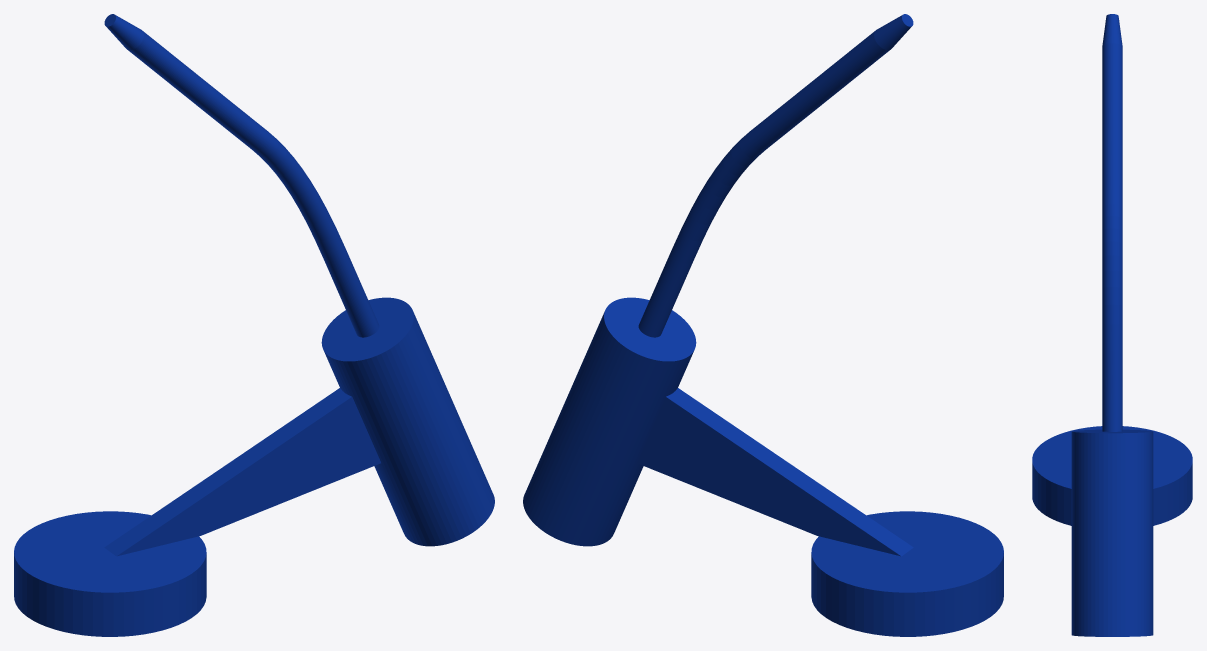
Rendered from torch.obj.
The picture shows the model from 3 angles, left to right: view 1: azimuth 30°, elevation 25°; view 2: azimuth 150°, elevation 25°; view 3: azimuth 270°, elevation 25°; orthographic projection. The views are drawn at different scales.
Parts seen in each view (by area): view 1: Welding_Torch_Mock_-_Torch; view 2: Welding_Torch_Mock_-_Torch; view 3: Welding_Torch_Mock_-_Torch.
Boxes of the visible parts, x1,y1,x2,y2 form: Welding_Torch_Mock_-_Torch: (14,14,494,636); Welding_Torch_Mock_-_Torch: (523,14,1003,636); Welding_Torch_Mock_-_Torch: (1032,14,1192,636).
Bounding box in the file's own units: 0.2767 × 0.343 × 0.0999.
